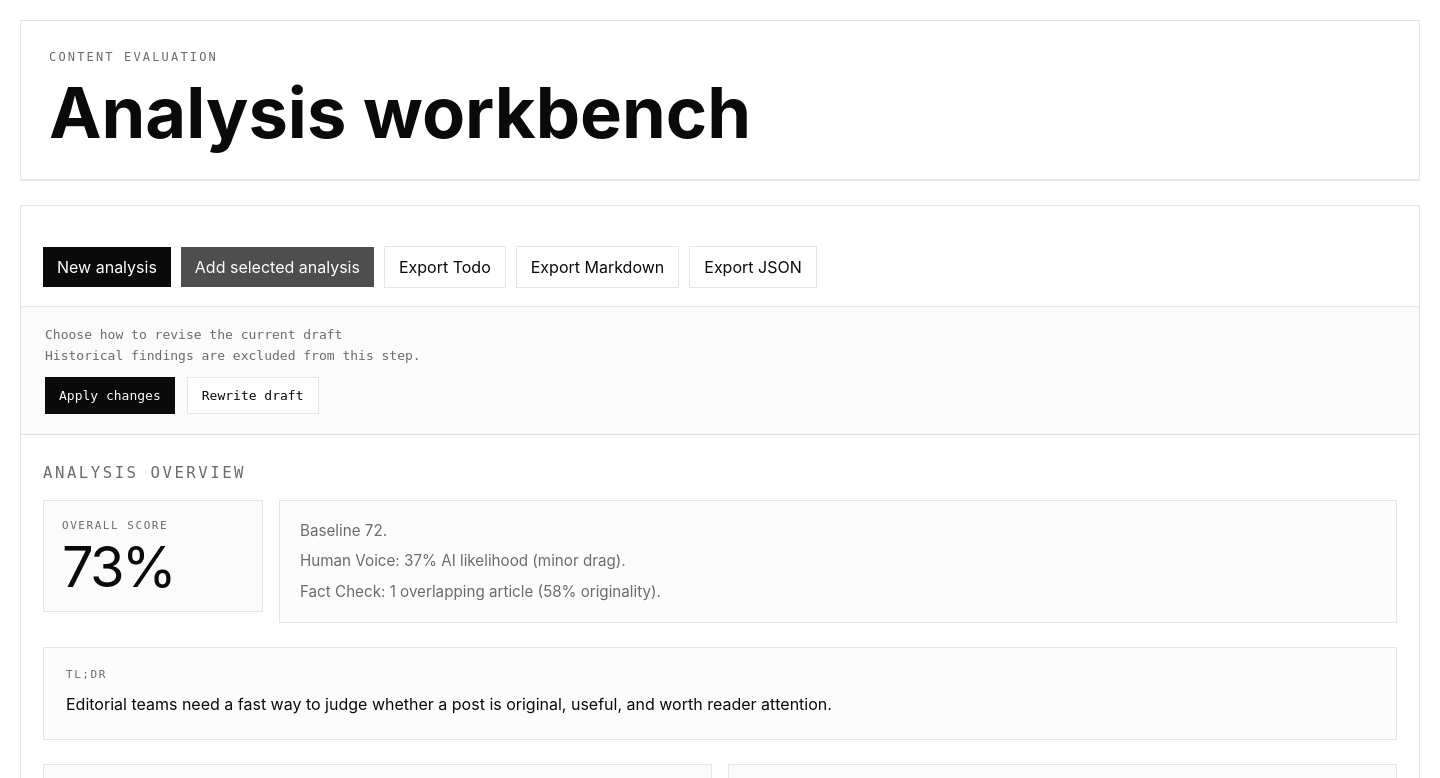
Test case: ReviewWorkbench › opens rewrite mode with a direction prompt and labels the diff review mode
Click the button with test id "rewrite-draft-button-top" at coordinates (253, 395), box x1=187 y1=377 x2=319 y2=414
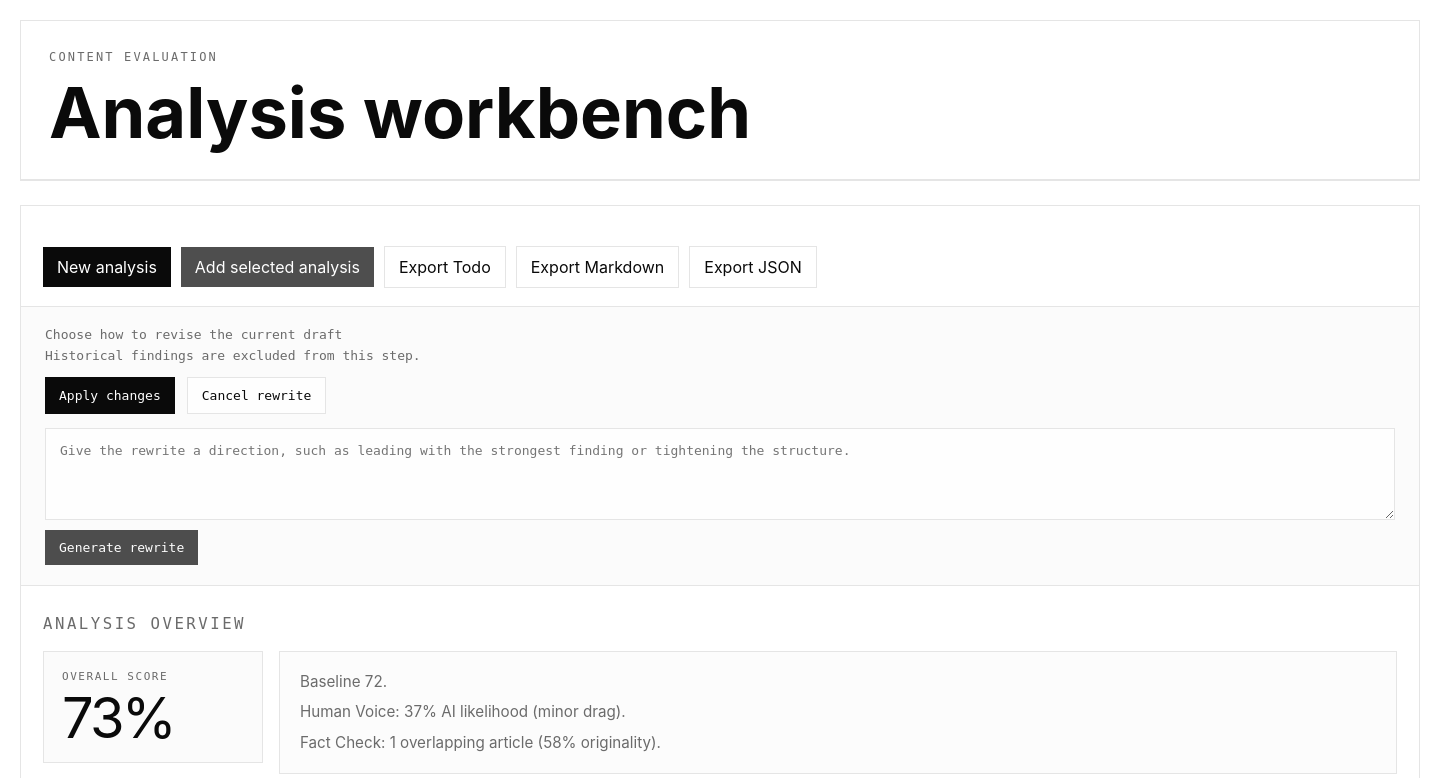
Replace the text in the text box with test id "rewrite-direction-input-top" with "Lead with the strongest finding." at coordinates (720, 474), box x1=45 y1=428 x2=1395 y2=520
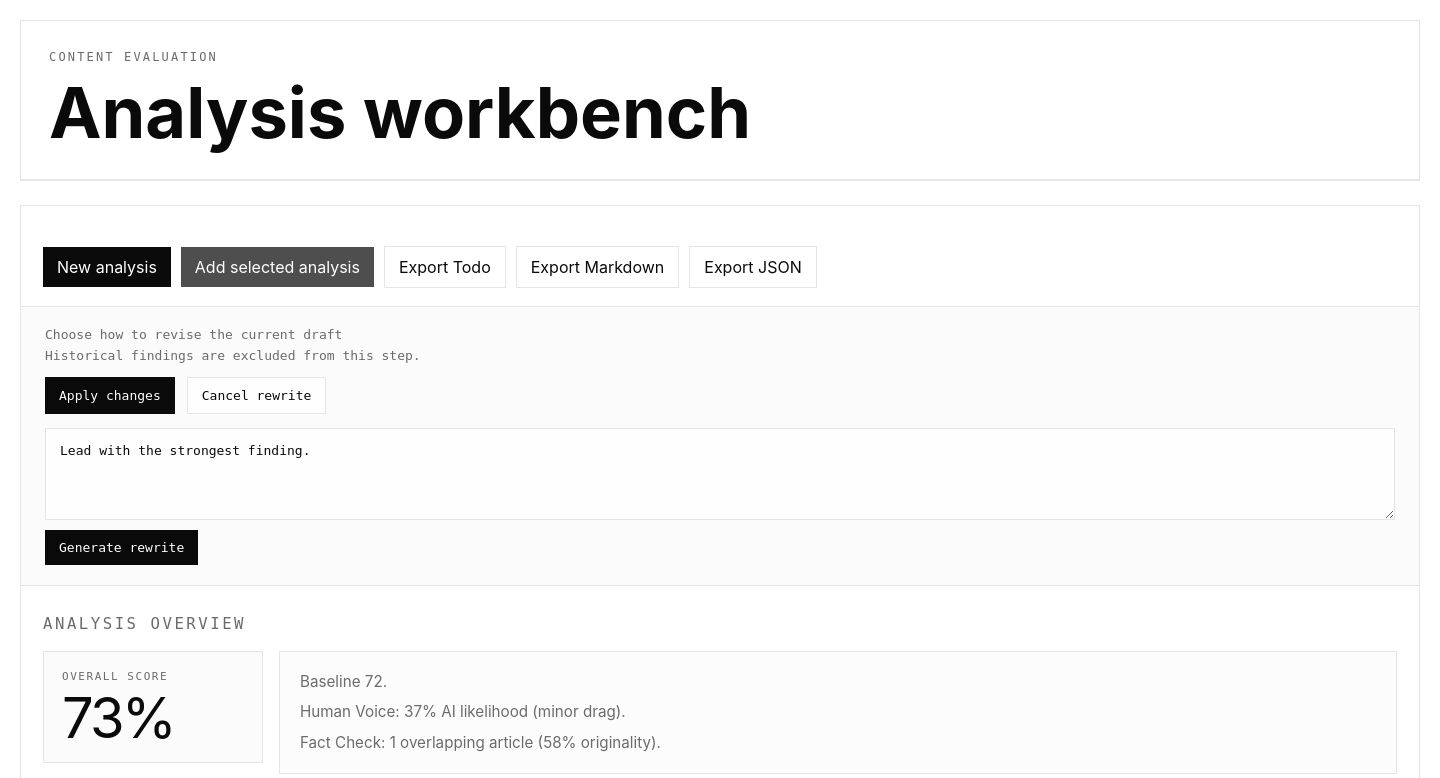
Click the button with test id "submit-rewrite-draft-button-top" at coordinates (122, 547), box x1=45 y1=530 x2=198 y2=565
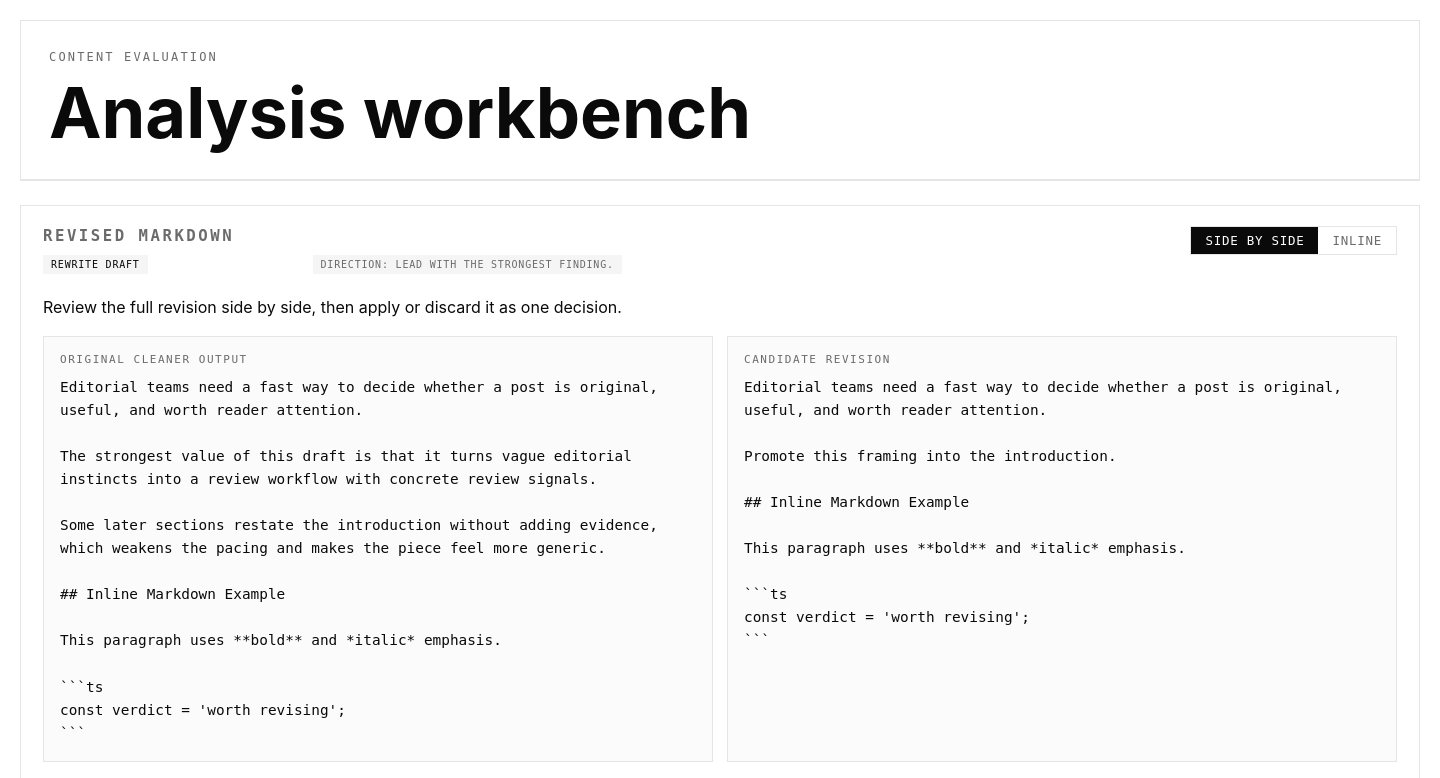
expect the text "Rewrite draft" is shown: met, box x1=43 y1=255 x2=148 y2=274
expect the text "Direction: Lead with the strongest finding." is shown: met, box x1=312 y1=255 x2=622 y2=274
Click the button with test id "diff-view-toggle-inline" at coordinates (1357, 240), box x1=1318 y1=227 x2=1396 y2=254
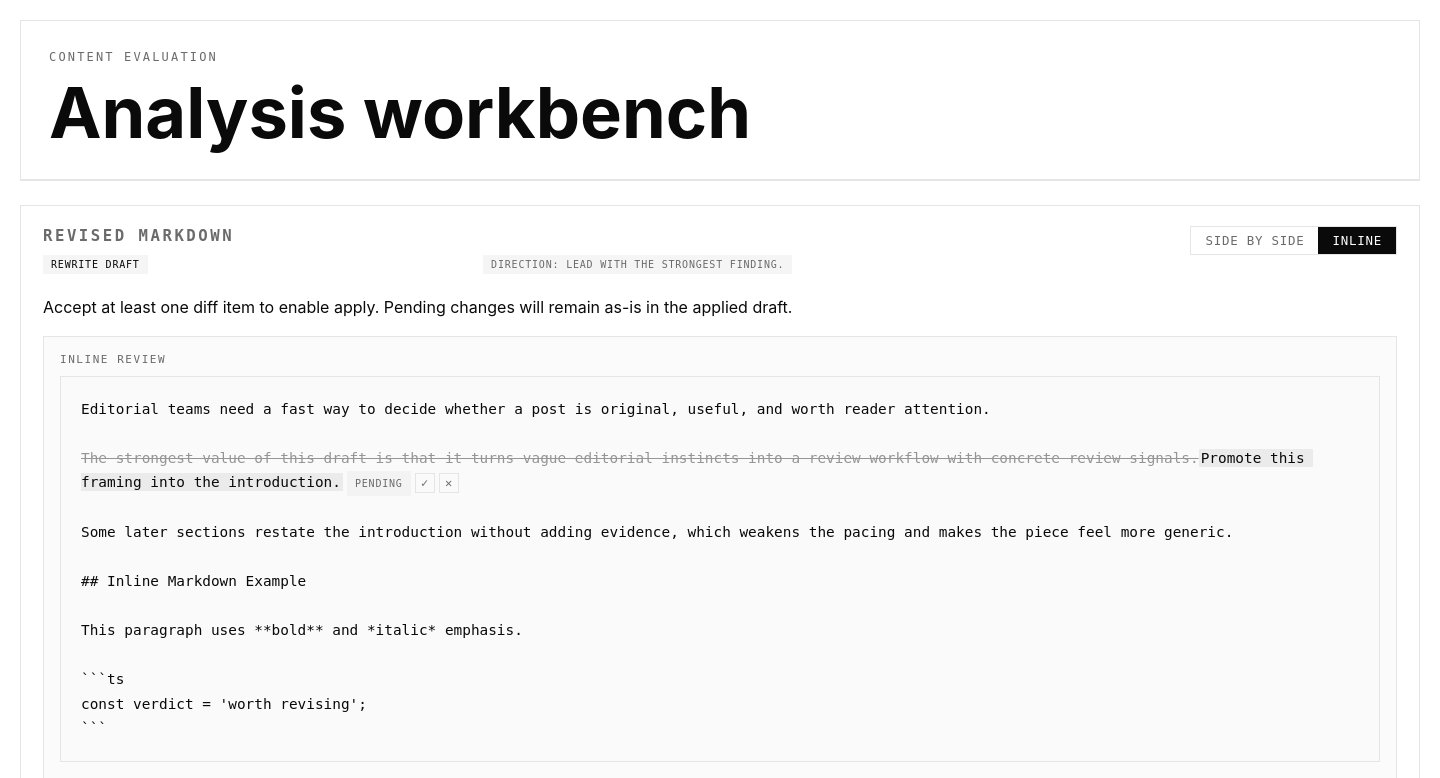
expect the element with test id "diff-item-diff-1" is shown: met, box x1=81 y1=450 x2=1313 y2=490
